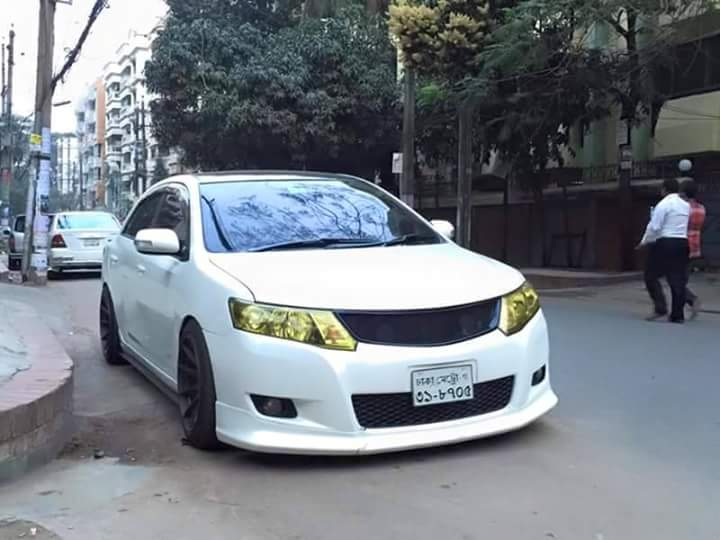registration_plate: (410, 364, 474, 407)
